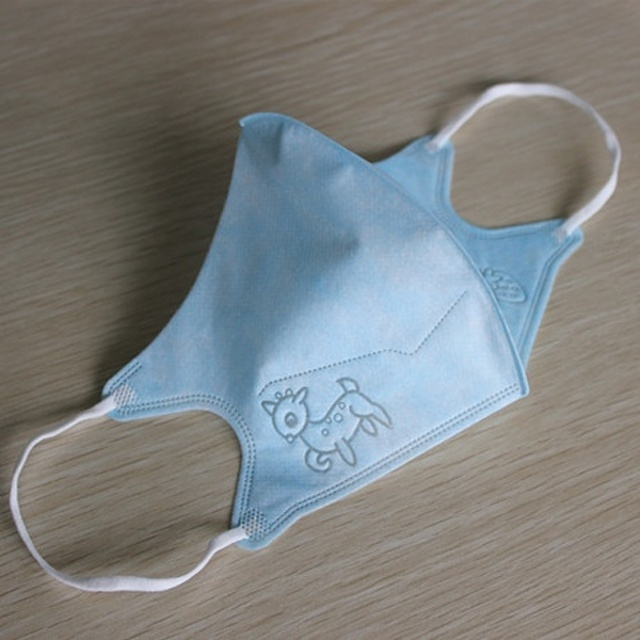mask: (4, 69, 625, 598)
